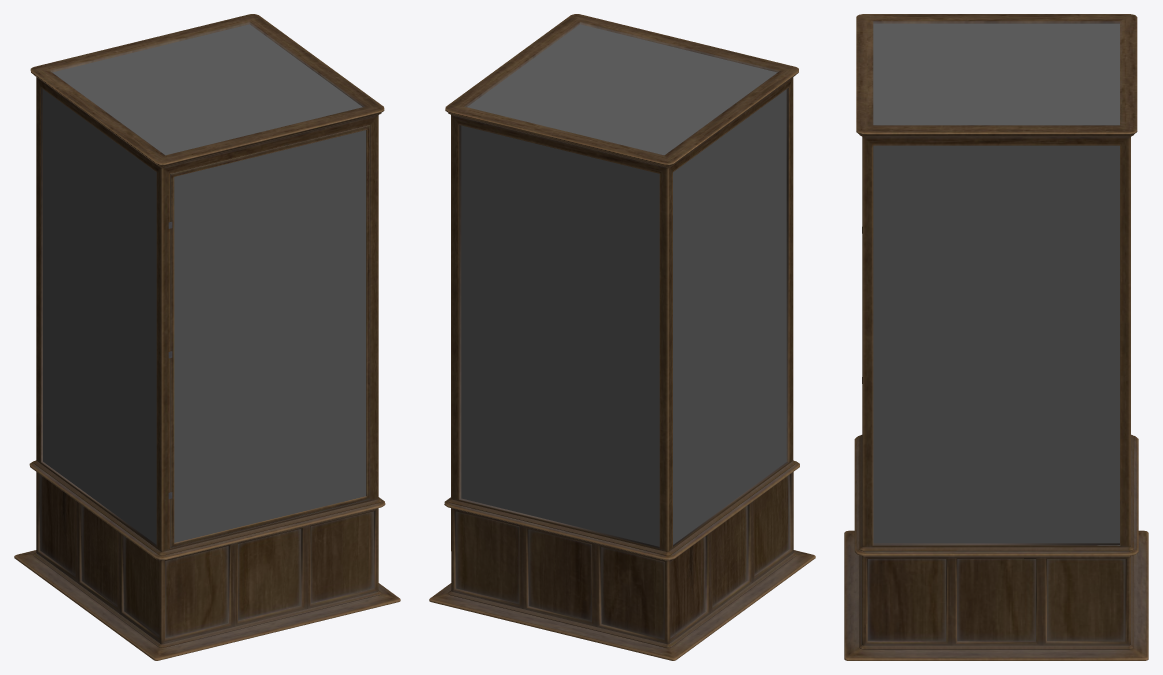
Rendered from large_display_case.glb.
The picture shows the model from 3 angles, left to right: view 1: azimuth 30°, elevation 25°; view 2: azimuth 150°, elevation 25°; view 3: azimuth 270°, elevation 25°; orthographic projection. The views are drawn at different scales.
Visible parts, largest first — view 1: SM_Large_Display_Case_low; view 2: SM_Large_Display_Case_low; view 3: SM_Large_Display_Case_low.
Boxes of the visible parts, x1,y1,x2,y2 form: SM_Large_Display_Case_low: (14,14,400,660); SM_Large_Display_Case_low: (429,14,815,660); SM_Large_Display_Case_low: (844,14,1148,660).
Bounding box in the file's own units: 158 × 300 × 158.
2 materials, 2 textured.
